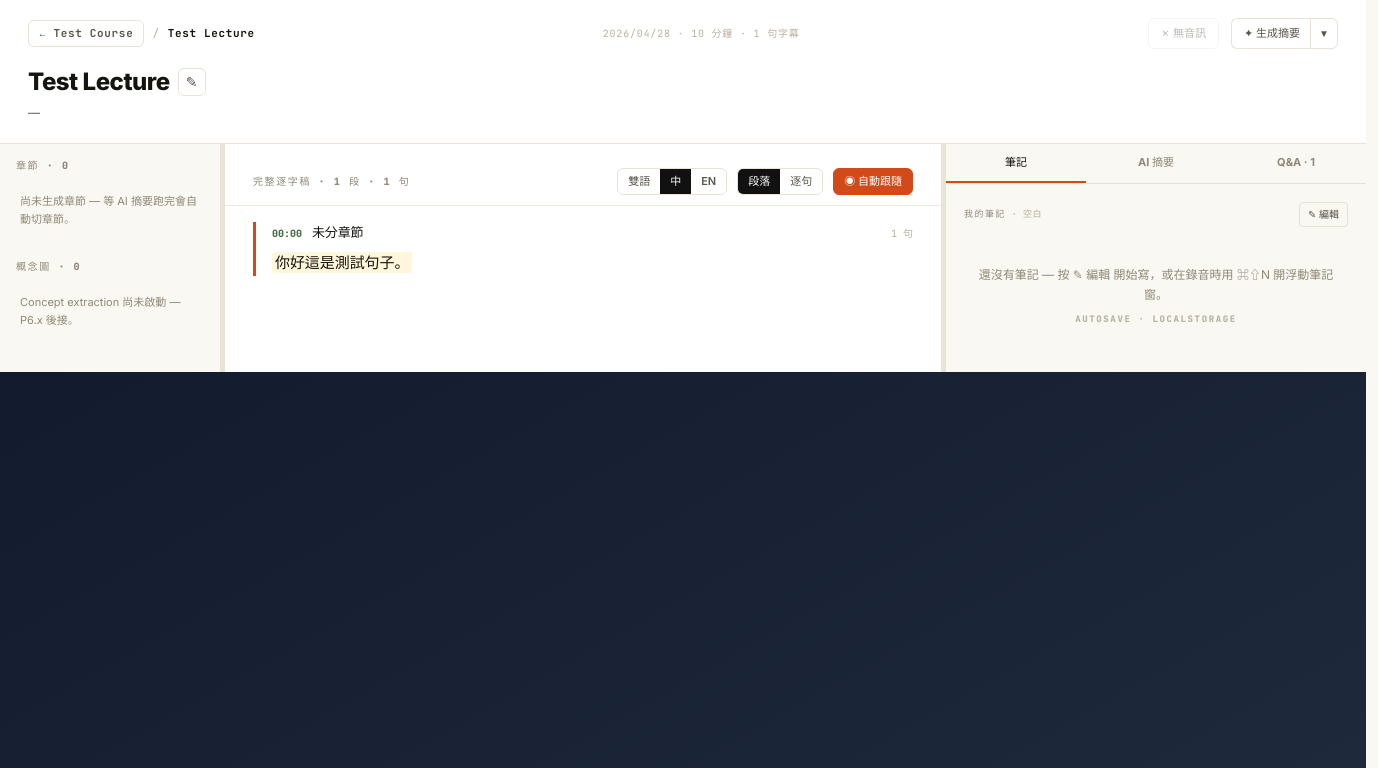
Test case: H18ReviewPage · cp75.36 markdown rendering in Q&A tab › QA answer renders **bold** as <strong>
Click the button "Q&A · 1" at (1296, 163), box [1226,144,1366,183]
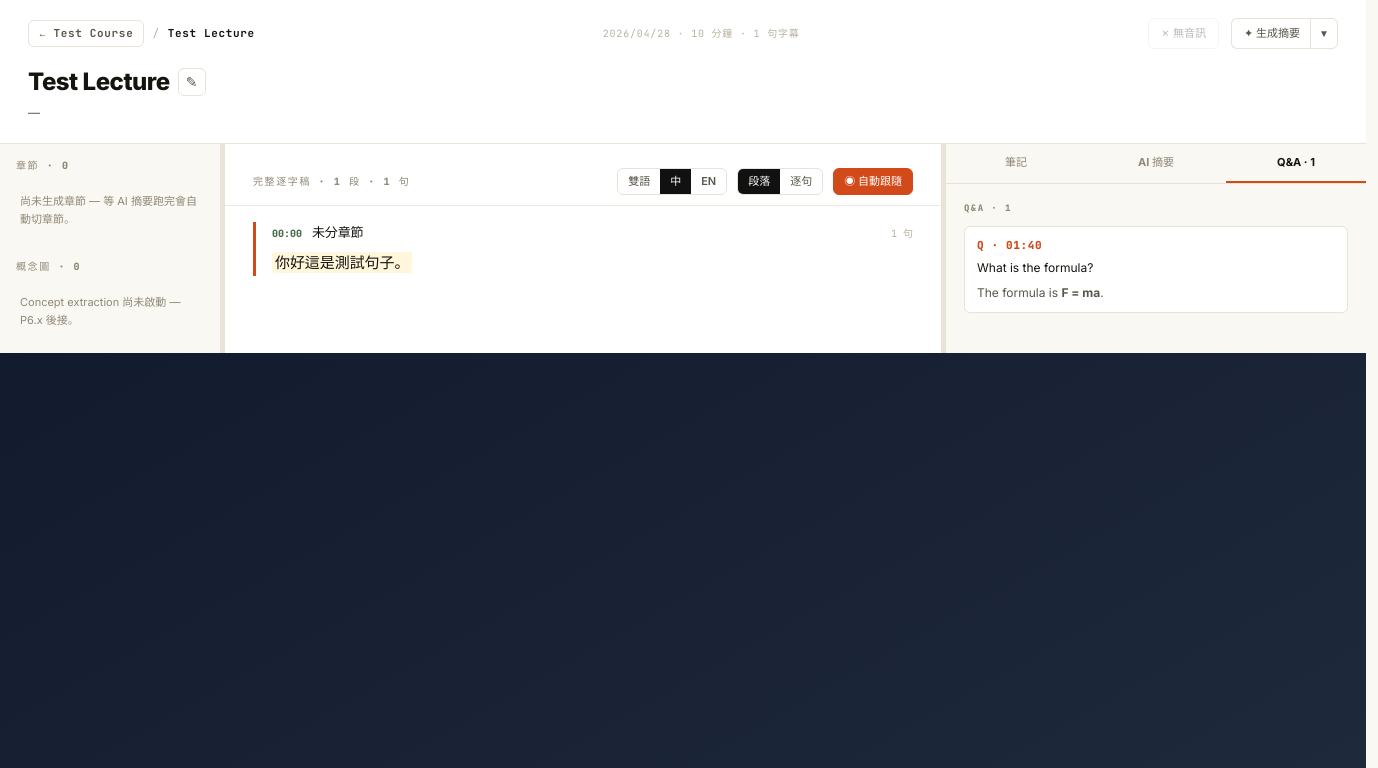
Now the text "F = ma" is shown, box [1062,285,1100,300]
